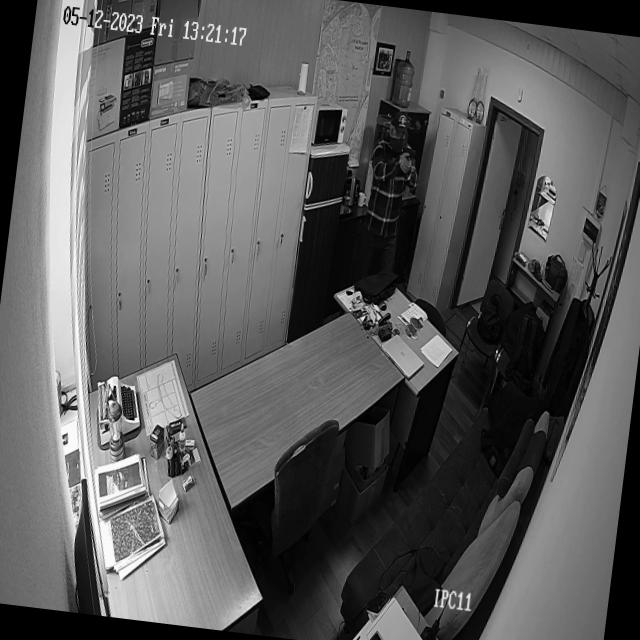gun: (404, 135, 423, 157)
person with a gun: (358, 105, 432, 298)
